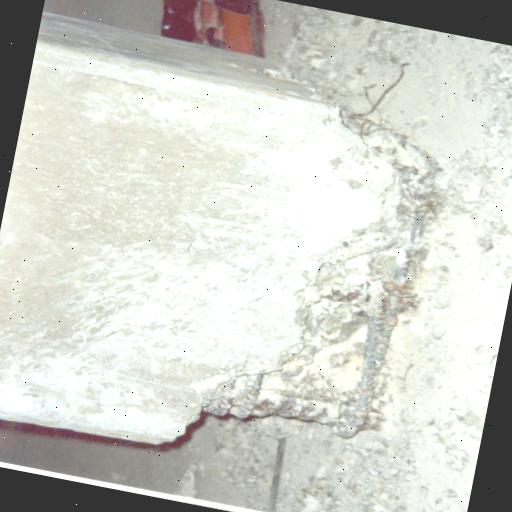spalling: (223, 113, 456, 441)
